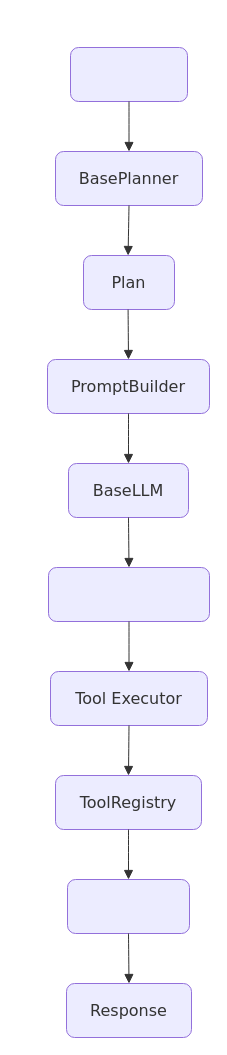
The diagram is 227 pixels wide and 1055 high, and some of its shapes have lost their labels. Here are the shapes that lost their labels. From the top down, the centre of each, then its label:
At [129,74]: "Request".
At [129,594]: "ToolCallParser".
At [128,906]: "BaseTool".
